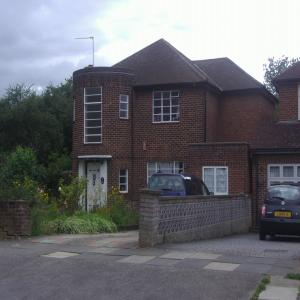Vehicle-registration-plate: (275, 213, 292, 219)
